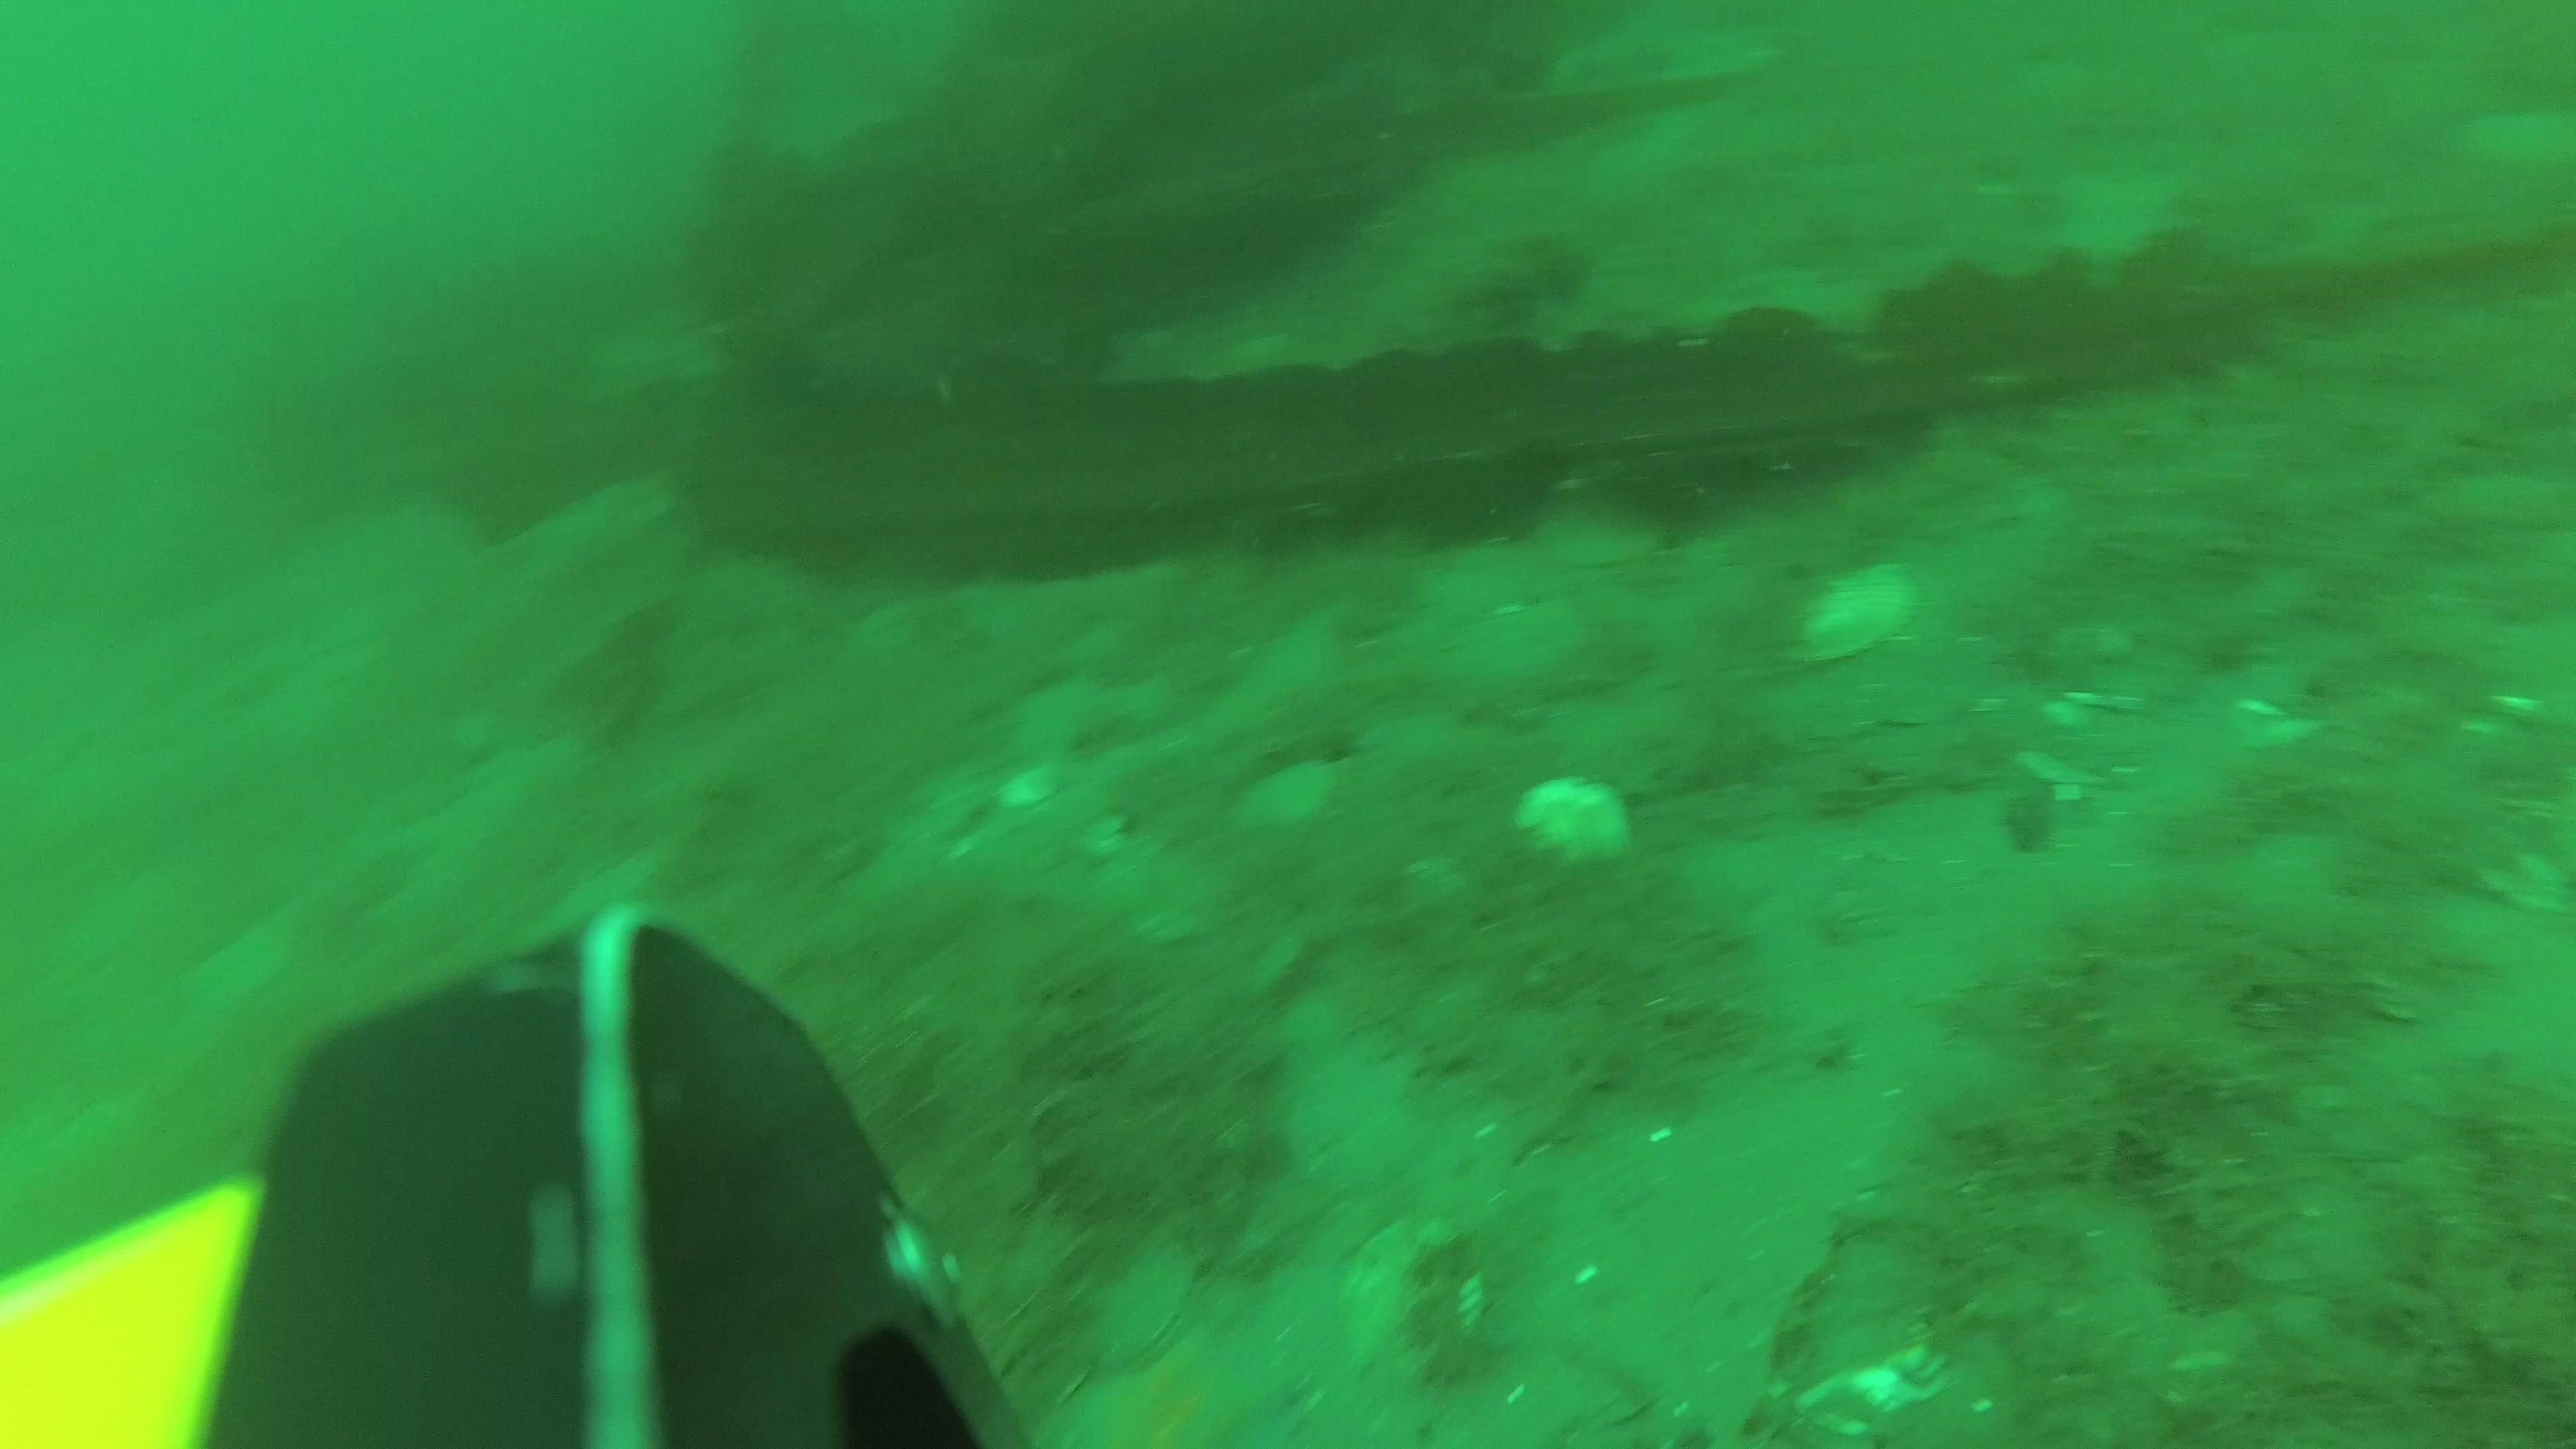scallop: (1789, 557, 1916, 655), (1513, 778, 1638, 862), (1539, 504, 1667, 571)
starfish: (1074, 1341, 1286, 1449)
